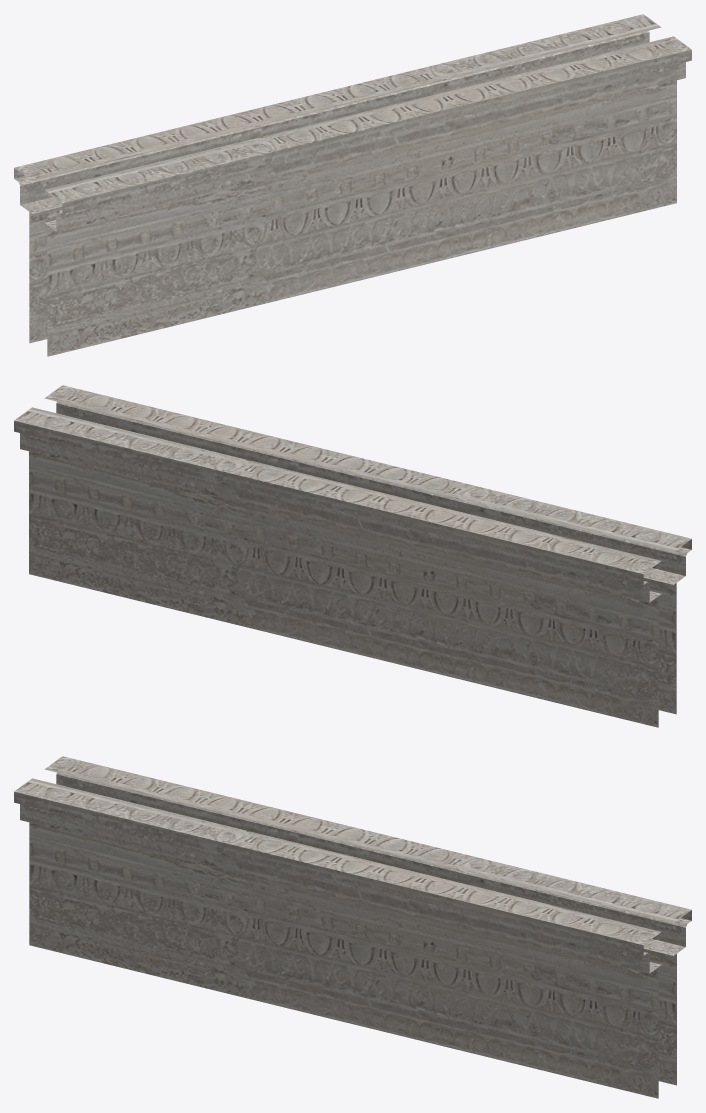
Rendered from arch_02.fbx.
3 renders of one model, top to bottom at view 1: azimuth 30°, elevation 25°; view 2: azimuth 150°, elevation 25°; view 3: azimuth 330°, elevation 25°, orthographic.
Parts seen in each view (by area): view 1: Box018, Rectangle041; view 2: Box018, Rectangle041; view 3: Box018, Rectangle041.
Boxes of the visible parts, x1,y1,x2,y2 form: Box018: (29,80,676,356); Rectangle041: (14,14,691,231); Box018: (29,451,676,727); Rectangle041: (14,385,691,602); Box018: (29,822,676,1098); Rectangle041: (14,756,691,973).
Bounding box in the file's own units: 120 × 16 × 30.
Materials: 1 (1 with a texture image).
